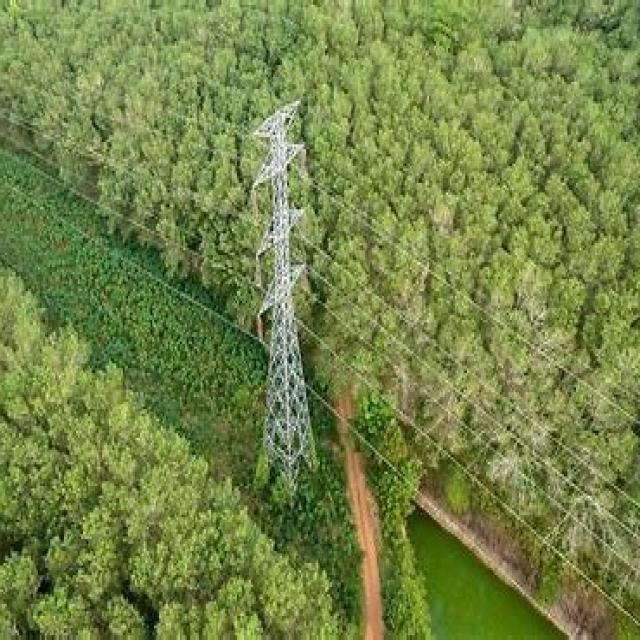utility poles: (242, 101, 334, 503)
